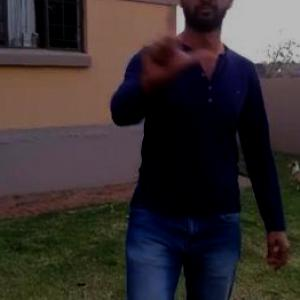land_hand: (131, 1, 214, 99)
